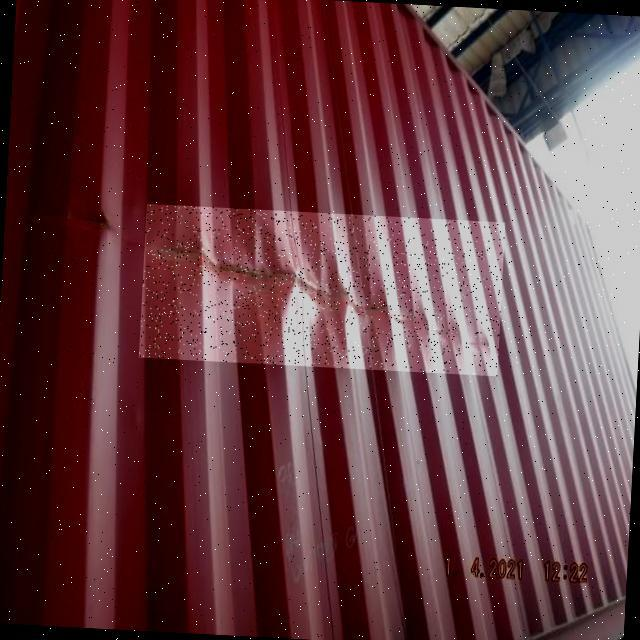dent: (140, 205, 507, 378)
